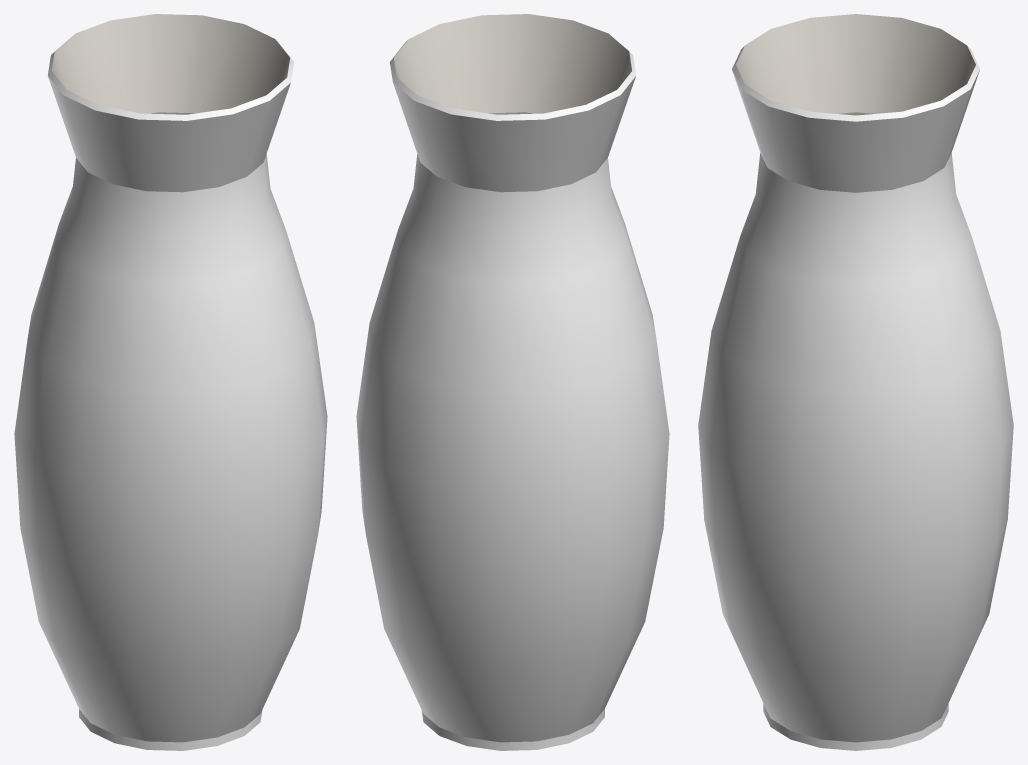
File: SM_Vase.fbx
3 views of the same model, side by side, from view 1: azimuth 30°, elevation 25°; view 2: azimuth 150°, elevation 25°; view 3: azimuth 270°, elevation 25° (orthographic).
Parts seen in each view (by area): view 1: Cylinder.001; view 2: Cylinder.001; view 3: Cylinder.001.
Part boxes in pixels (left/top/right/bottom): Cylinder.001: left=14, top=14, right=327, bottom=750; Cylinder.001: left=356, top=14, right=669, bottom=750; Cylinder.001: left=698, top=14, right=1013, bottom=750.
Bounding box in the file's own units: 14.25 × 32.24 × 14.25.
